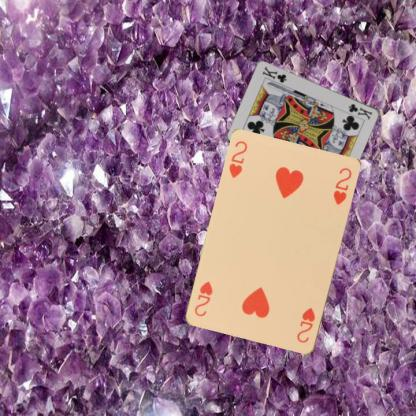2h: (227, 138, 249, 180), (294, 305, 317, 344)
Kc: (346, 101, 373, 121)
